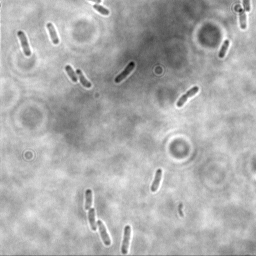Dividing: (175, 86, 200, 108), (120, 225, 133, 255), (150, 168, 163, 194)
Rod: (114, 60, 136, 84), (96, 219, 112, 247), (16, 30, 32, 57), (74, 68, 94, 89), (45, 23, 60, 46), (64, 64, 79, 84), (217, 40, 230, 60), (83, 188, 94, 211), (92, 4, 111, 17), (88, 208, 98, 231), (238, 8, 247, 30)
